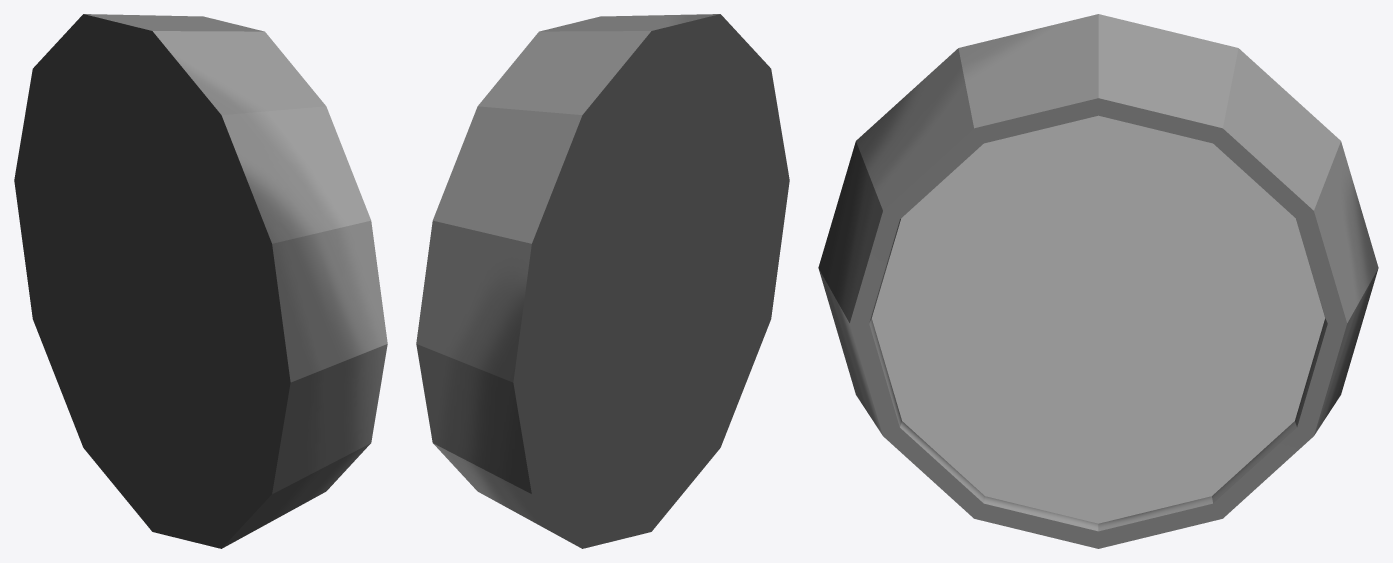
The model's file is Clock.fbx.
The picture shows the model from 3 angles, left to right: view 1: azimuth 30°, elevation 25°; view 2: azimuth 150°, elevation 25°; view 3: azimuth 270°, elevation 25°; orthographic projection.
Parts seen in each view (by area): view 1: Clock; view 2: Clock; view 3: Glass, Clock.
Boxes of the visible parts, bbox=[...] form: Clock: bbox=[14, 14, 387, 548]; Clock: bbox=[416, 14, 789, 548]; Glass: bbox=[872, 115, 1324, 523]; Clock: bbox=[818, 14, 1378, 548].
Size of the model in its own units: 52.98 by 225 by 225.
